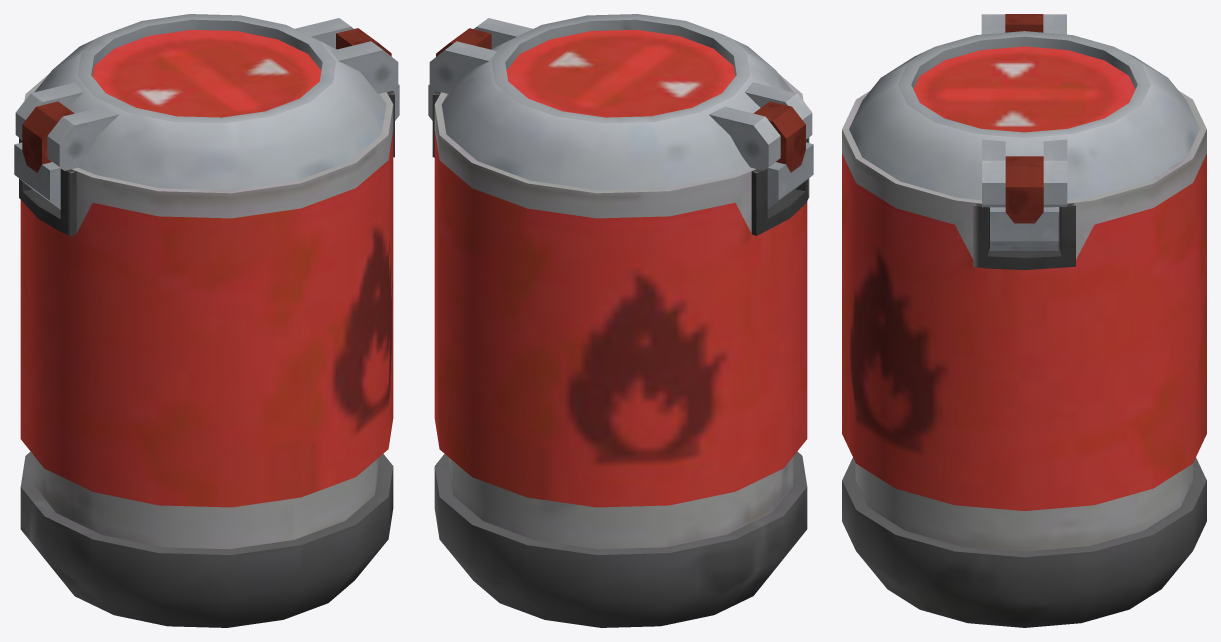
File: Demo_xiangzi02.FBX
3 renders of one model, left to right at view 1: azimuth 30°, elevation 25°; view 2: azimuth 150°, elevation 25°; view 3: azimuth 270°, elevation 25°, orthographic. The views are drawn at different scales.
Visible parts, largest first — view 1: Demo_xiangzi02; view 2: Demo_xiangzi02; view 3: Demo_xiangzi02.
Part boxes in pixels (left/top/right/bottom): Demo_xiangzi02: left=14, top=14, right=399, bottom=627; Demo_xiangzi02: left=428, top=14, right=813, bottom=627; Demo_xiangzi02: left=842, top=14, right=1206, bottom=627.
Size of the model in its own units: 0.8027 by 1.09 by 0.7465.
